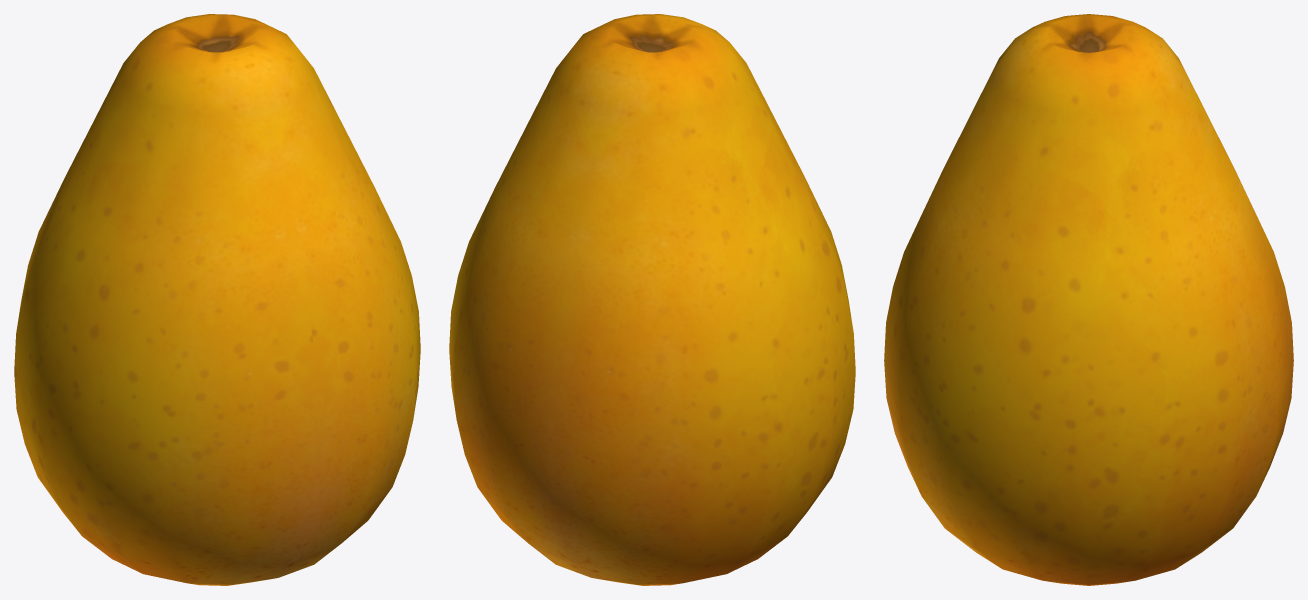
File: Papaya_Ripe.fbx
3 views of the same model, side by side, from view 1: azimuth 30°, elevation 25°; view 2: azimuth 150°, elevation 25°; view 3: azimuth 270°, elevation 25° (orthographic).
Visible parts, largest first — view 1: Papaya_Ripe; view 2: Papaya_Ripe; view 3: Papaya_Ripe.
Boxes of the visible parts, x1=… form: Papaya_Ripe: x1=14, y1=14, x2=420, y2=585; Papaya_Ripe: x1=449, y1=14, x2=855, y2=585; Papaya_Ripe: x1=884, y1=14, x2=1293, y2=585.
Bounding box in the file's own units: 37.94 × 54.68 × 37.94.
